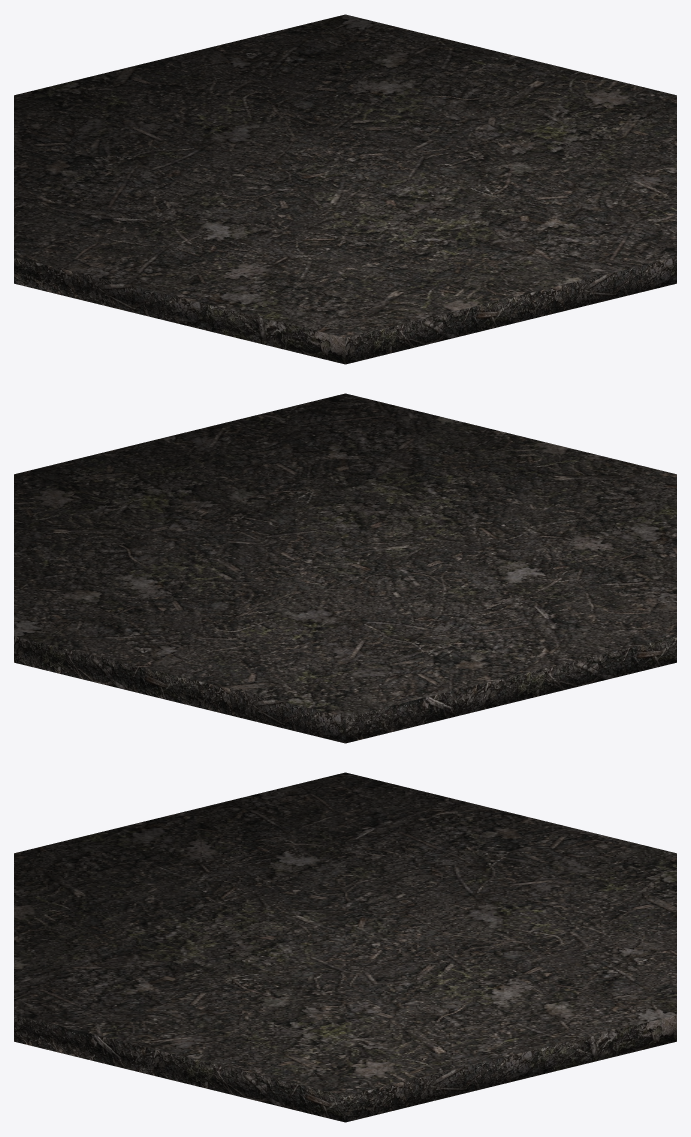
Rendered from ash-leaf-tile-v01.glb.
3 renders of one model, top to bottom at view 1: azimuth 30°, elevation 25°; view 2: azimuth 150°, elevation 25°; view 3: azimuth 270°, elevation 25°, orthographic.
Parts seen in each view (by area): view 1: ash-leaf-tile-hex; view 2: ash-leaf-tile-hex; view 3: ash-leaf-tile-hex.
Part boxes in pixels (bbox=[...]): ash-leaf-tile-hex: bbox=[14, 14, 676, 364]; ash-leaf-tile-hex: bbox=[14, 393, 676, 743]; ash-leaf-tile-hex: bbox=[14, 772, 676, 1122].
Size of the model in its own units: 1.96 by 0.075 by 1.7.
Materials: 1 (1 with a texture image).
